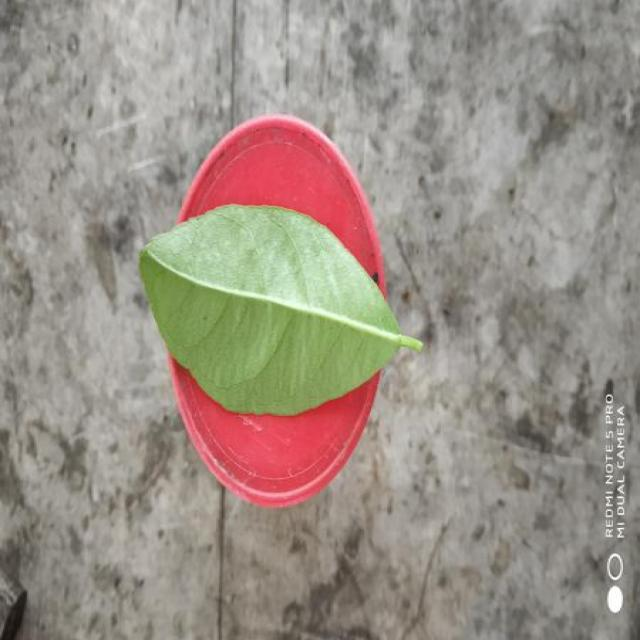citron lime: (140, 205, 422, 414)
